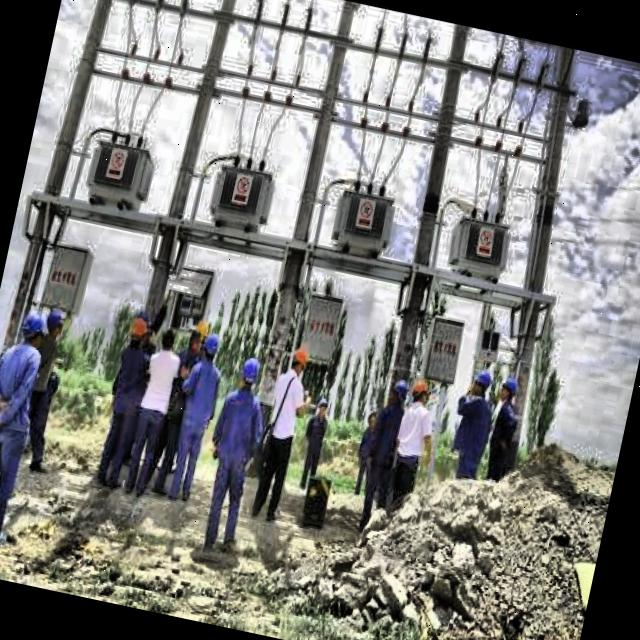helmet: (14, 309, 52, 355), (466, 360, 498, 405), (232, 350, 262, 396), (494, 370, 526, 411), (41, 300, 70, 340), (386, 376, 416, 412), (285, 340, 311, 378), (407, 374, 436, 408), (126, 312, 151, 348), (198, 329, 223, 364)
